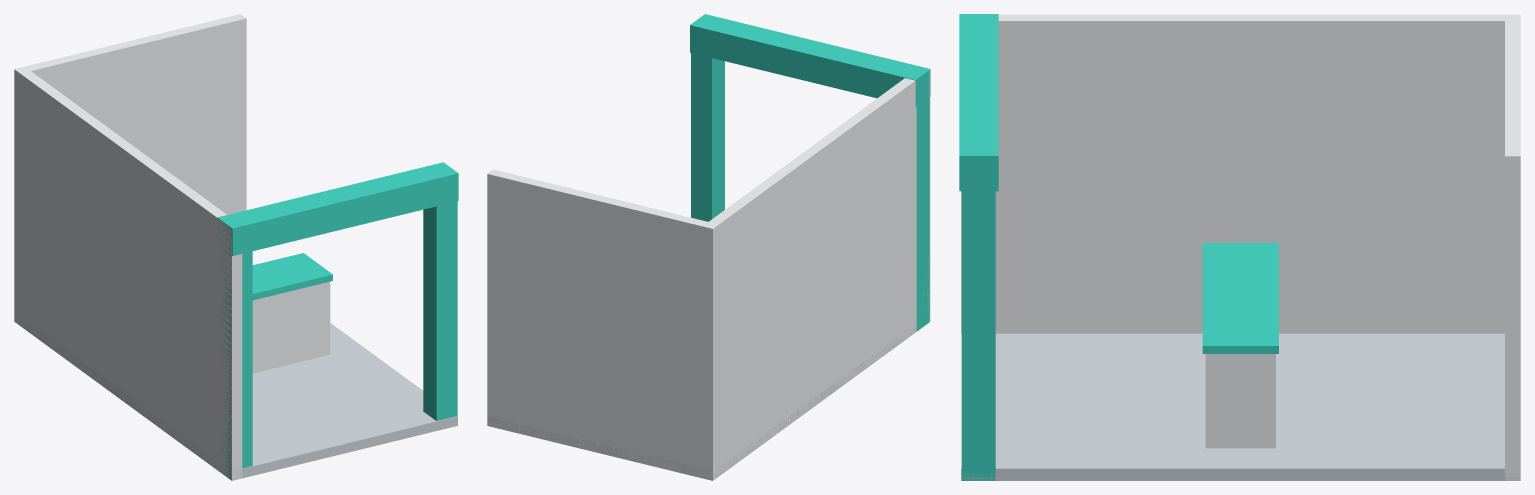
The picture shows the model from 3 angles, left to right: view 1: azimuth 30°, elevation 25°; view 2: azimuth 150°, elevation 25°; view 3: azimuth 270°, elevation 25°; orthographic projection. The views are drawn at different scales.
Visible parts, largest first — view 1: Exhibition Booth Concept; view 2: Exhibition Booth Concept; view 3: Exhibition Booth Concept.
Part boxes in pixels (bbox=[...]): Exhibition Booth Concept: bbox=[14, 14, 458, 480]; Exhibition Booth Concept: bbox=[487, 14, 930, 480]; Exhibition Booth Concept: bbox=[959, 14, 1520, 480].
Size of the model in its own units: 3 by 3.2 by 5.02.
